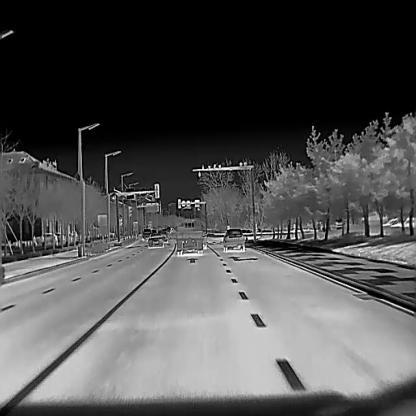car: (175, 219, 203, 255), (222, 228, 245, 251), (148, 232, 163, 246), (142, 227, 151, 239)
light: (154, 182, 163, 202)
